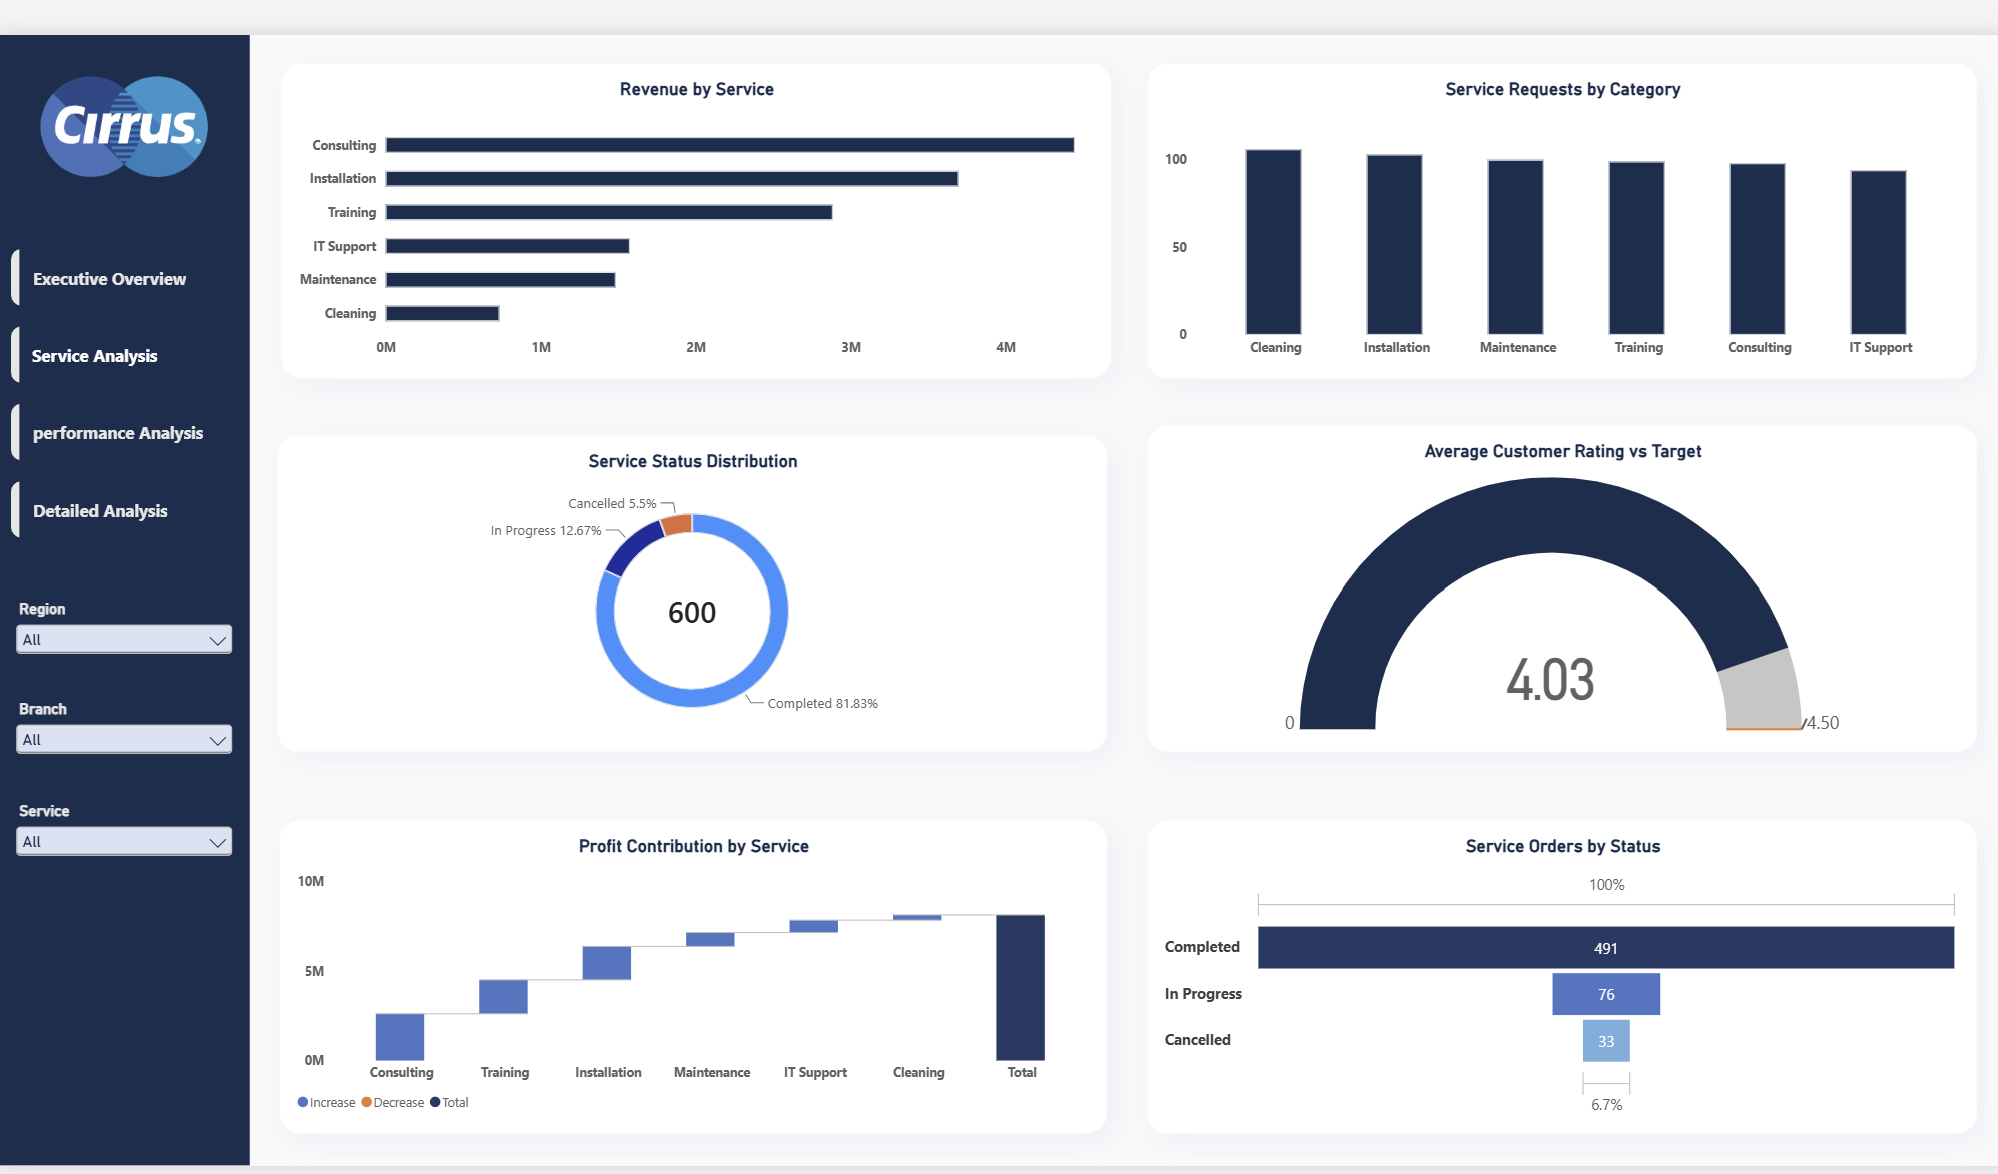

The dashboard page shown, as its layout file describes it:
{"tool":"powerbi","page":{"name":"Service Analysis","canvas":[1920,1080],"ordinal":1},"visuals":[{"type":"shape","box":[0,0,239.8,1079.9],"z":0},{"type":"textbox","box":[0,733,260,300],"z":1000},{"type":"slicer","fields":{"Values":["ServiceData.Region"]},"box":[11.7,540,216.7,98.3],"z":2000},{"type":"slicer","fields":{"Values":["ServiceData.Branch"]},"box":[11.7,635,216.7,98.3],"z":3000},{"type":"slicer","fields":{"Values":["ServiceData.Service"]},"box":[11.7,733.3,216.7,91.7],"z":4000},{"type":"pageNavigator","box":[11.7,205.3,203,280],"z":5000},{"type":"image","box":[28,8,182,160],"z":6000},{"type":"clusteredBarChart","title":"Revenue by Service","fields":{"Category":["ServiceData.Service"],"Y":["Sum(ServiceData.Revenue_INR)"]},"box":[270,26,794,302],"z":7000},{"type":"clusteredColumnChart","title":"Service Requests by Category","fields":{"Category":["ServiceData.Service"],"Y":["ServiceData.Total Orders"]},"box":[1098,26,794,302],"z":8000},{"type":"donutChart","title":"Service Status Distribution","fields":{"Category":["ServiceData.Status"],"Y":["ServiceData.Total Orders"]},"box":[266,382,794,302],"z":9000},{"type":"gauge","title":"Average Customer Rating vs Target","fields":{"MaxValue":["ServiceData.Gauge Target 1"],"MinValue":["ServiceData.Gauge Minimum"],"TargetValue":["ServiceData.Gauge Target 1"],"Y":["ServiceData.Average Rating"]},"box":[1098,372,794,312],"z":10000},{"type":"waterfallChart","title":"Profit Contribution by Service","fields":{"Category":["ServiceData.Service"],"Y":["Sum(ServiceData.Profit_INR)"]},"box":[268,750,792,300],"z":11000},{"type":"funnel","title":"Service Orders by Status","fields":{"Category":["ServiceData.Status"],"Y":["ServiceData.Total Orders"]},"box":[1098,750,794,300],"z":12000}]}

Visuals, with their boxes on the page's 1920x1080 design canvas (x1, y1, x2, y2). These are canvas units, not pixel positions in the 1998x1174 screenshot, which may show the page scaled, cropped or inside an application window:
shape: box(0, 0, 240, 1080)
textbox: box(0, 733, 260, 1033)
slicer - ServiceData.Region: box(12, 540, 228, 638)
slicer - ServiceData.Branch: box(12, 635, 228, 733)
slicer - ServiceData.Service: box(12, 733, 228, 825)
pageNavigator: box(12, 205, 215, 485)
image: box(28, 8, 210, 168)
"Revenue by Service" clusteredBarChart: box(270, 26, 1064, 328)
"Service Requests by Category" clusteredColumnChart: box(1098, 26, 1892, 328)
"Service Status Distribution" donutChart: box(266, 382, 1060, 684)
"Average Customer Rating vs Target" gauge: box(1098, 372, 1892, 684)
"Profit Contribution by Service" waterfallChart: box(268, 750, 1060, 1050)
"Service Orders by Status" funnel: box(1098, 750, 1892, 1050)
